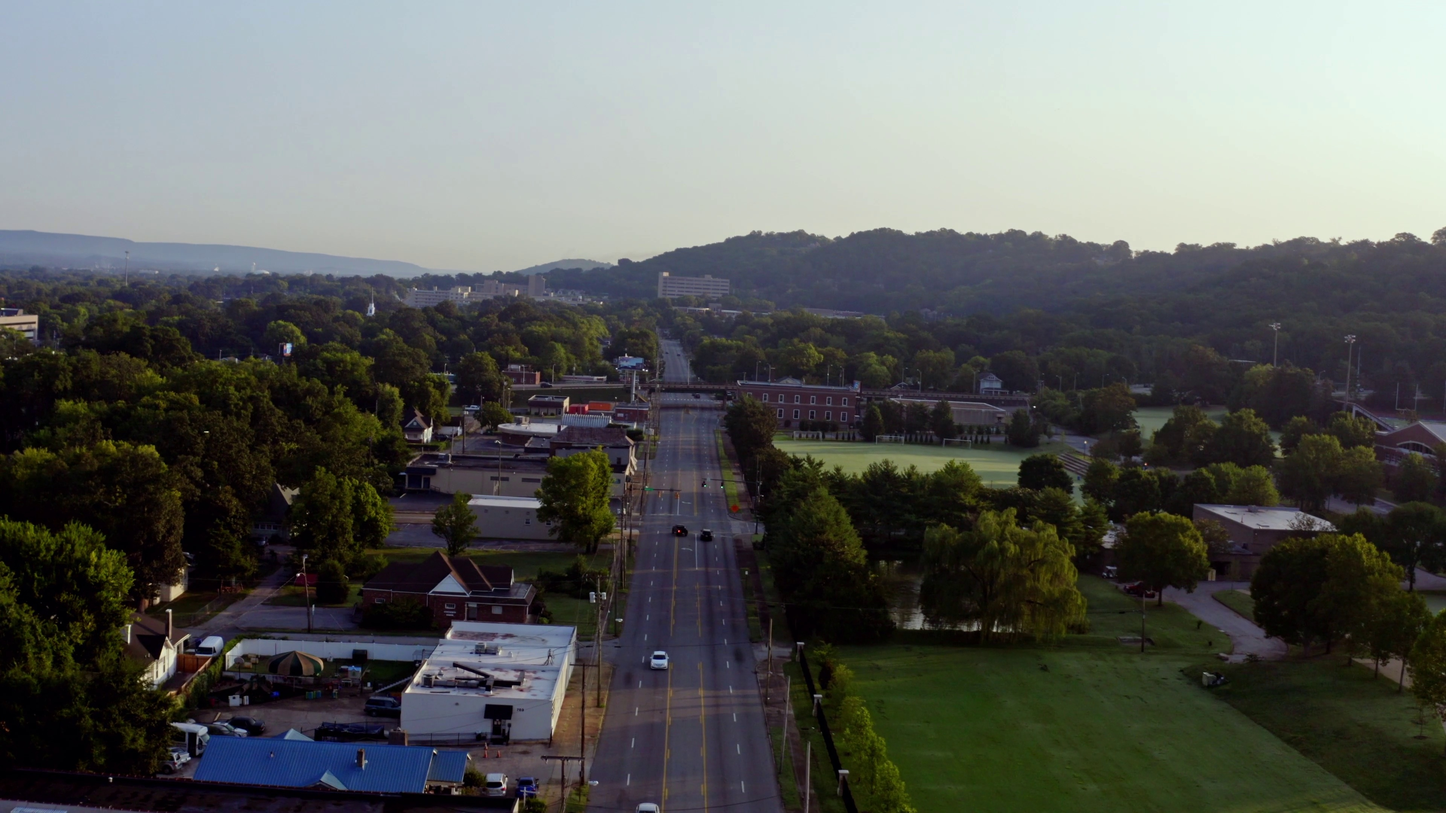Vehicle: (167, 722, 210, 757), (363, 696, 401, 717), (226, 716, 266, 735), (195, 635, 224, 658), (483, 772, 508, 797), (193, 723, 210, 757), (158, 752, 183, 775), (1123, 581, 1156, 598), (515, 776, 539, 799), (211, 721, 241, 737), (167, 747, 191, 764), (650, 651, 669, 670), (635, 803, 660, 813), (672, 525, 688, 536), (700, 529, 713, 541), (464, 405, 480, 411), (540, 382, 553, 388), (692, 393, 700, 399), (677, 353, 680, 356)
